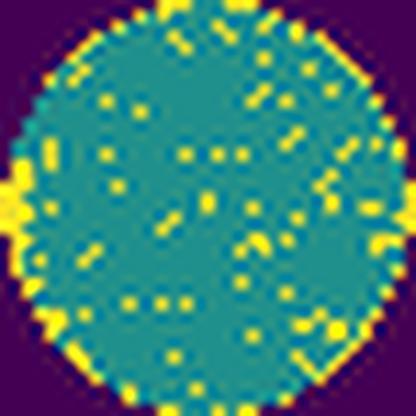Edge-Loc: (0, 155, 37, 304), (391, 179, 416, 239), (31, 302, 66, 342)
